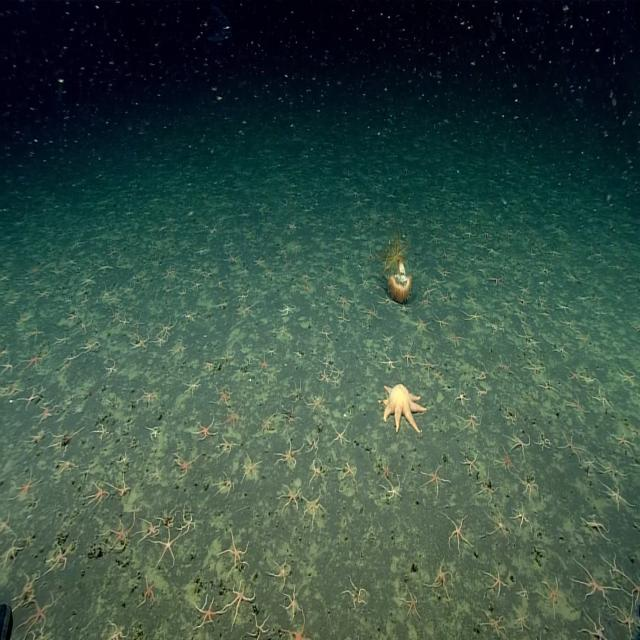brittle-stars: (573, 558, 610, 599), (25, 595, 54, 636), (226, 584, 256, 618), (222, 534, 250, 570), (106, 516, 134, 552), (158, 529, 182, 567), (447, 514, 471, 551), (12, 469, 39, 500), (196, 596, 222, 628), (431, 560, 454, 596), (616, 602, 639, 637), (581, 612, 609, 640), (487, 509, 510, 542), (344, 578, 367, 611), (18, 571, 42, 601), (540, 576, 561, 610), (160, 498, 182, 530), (420, 464, 446, 491), (46, 543, 70, 572), (621, 570, 640, 606), (601, 482, 627, 508), (483, 611, 507, 639), (304, 492, 326, 522), (560, 431, 582, 461), (1, 537, 22, 568), (483, 568, 506, 596), (281, 618, 310, 640), (278, 439, 301, 466), (88, 481, 111, 508), (601, 459, 628, 482), (516, 316, 534, 350), (402, 588, 421, 620), (585, 515, 608, 541), (509, 431, 531, 458), (52, 430, 79, 452), (539, 374, 560, 402), (612, 429, 636, 453), (194, 416, 217, 441), (173, 452, 195, 478), (280, 484, 300, 512), (477, 475, 498, 501), (270, 558, 290, 585), (249, 615, 270, 640), (103, 620, 129, 640), (139, 518, 161, 541), (24, 351, 48, 372), (284, 588, 302, 616), (512, 505, 532, 530), (225, 406, 245, 431), (215, 473, 234, 499), (242, 453, 259, 482), (458, 413, 481, 434), (286, 240, 310, 260), (111, 476, 130, 501), (306, 391, 326, 413), (384, 477, 402, 501), (496, 448, 514, 472), (220, 345, 238, 369), (354, 273, 374, 294), (501, 401, 517, 427), (460, 451, 478, 474), (201, 352, 218, 376), (182, 509, 198, 534), (22, 387, 42, 407), (126, 497, 146, 517), (593, 386, 611, 408), (333, 423, 350, 446), (512, 609, 528, 633), (262, 412, 278, 436), (339, 462, 358, 482), (58, 457, 78, 476), (62, 308, 81, 328), (142, 579, 156, 606), (182, 378, 201, 397), (566, 393, 584, 413), (619, 368, 637, 388), (0, 512, 13, 539), (213, 386, 231, 405), (161, 316, 178, 336), (218, 436, 235, 456), (522, 477, 538, 498), (119, 310, 132, 335), (140, 388, 158, 406), (526, 357, 544, 375), (420, 355, 438, 373), (446, 331, 465, 348), (37, 405, 56, 422), (26, 324, 45, 341), (288, 380, 304, 400), (403, 346, 418, 367), (94, 423, 111, 441), (396, 299, 414, 316), (462, 310, 482, 325), (310, 459, 324, 480), (415, 316, 431, 334), (132, 336, 150, 352), (361, 304, 377, 322), (148, 464, 164, 482), (513, 306, 529, 324), (535, 432, 549, 452), (369, 280, 389, 294), (435, 312, 452, 328), (567, 367, 583, 384), (379, 293, 397, 308), (28, 429, 46, 444), (456, 387, 470, 406), (83, 340, 102, 354), (517, 580, 530, 600), (382, 353, 398, 369), (55, 332, 71, 348), (173, 341, 188, 358), (561, 316, 578, 331), (380, 461, 394, 479), (308, 435, 320, 456), (24, 528, 36, 549), (528, 336, 541, 355), (153, 334, 168, 350), (553, 343, 568, 359), (1, 358, 16, 374), (146, 424, 160, 441), (76, 319, 89, 337), (105, 358, 117, 377), (319, 326, 334, 341), (577, 332, 592, 347), (280, 304, 296, 318), (266, 369, 280, 385), (488, 320, 504, 334), (476, 364, 489, 381), (201, 266, 214, 283), (338, 294, 353, 308), (556, 301, 571, 315), (338, 311, 352, 326), (37, 287, 52, 301), (6, 383, 20, 398), (498, 357, 511, 373), (100, 285, 113, 301), (260, 355, 272, 372), (83, 274, 97, 288), (132, 315, 146, 329), (475, 385, 489, 399), (464, 290, 477, 305), (488, 274, 503, 287), (182, 310, 195, 325), (278, 326, 291, 341), (96, 263, 111, 276), (119, 449, 131, 465), (629, 422, 640, 439), (430, 275, 443, 289), (165, 266, 178, 280), (302, 270, 315, 284), (228, 251, 242, 264), (554, 223, 567, 237), (318, 368, 330, 383), (324, 281, 339, 293), (124, 281, 136, 296), (537, 264, 549, 279), (266, 267, 278, 281), (486, 245, 500, 257), (242, 304, 254, 318), (462, 229, 475, 241), (501, 299, 513, 312), (216, 276, 227, 290), (238, 289, 249, 303), (586, 373, 597, 387), (256, 258, 268, 270), (422, 286, 434, 298), (419, 296, 431, 308), (518, 294, 530, 306), (302, 282, 314, 294), (354, 198, 366, 210), (67, 257, 79, 269), (335, 364, 346, 377), (191, 279, 202, 292), (576, 292, 589, 303), (432, 370, 443, 383), (114, 306, 124, 320), (0, 346, 9, 361), (268, 346, 279, 358), (333, 376, 344, 388), (438, 292, 449, 304), (322, 266, 333, 278), (520, 284, 530, 296), (240, 266, 250, 278), (587, 457, 597, 469), (323, 358, 333, 370), (476, 242, 488, 252), (448, 228, 458, 240), (442, 269, 452, 280), (309, 300, 318, 312), (190, 266, 199, 276)
